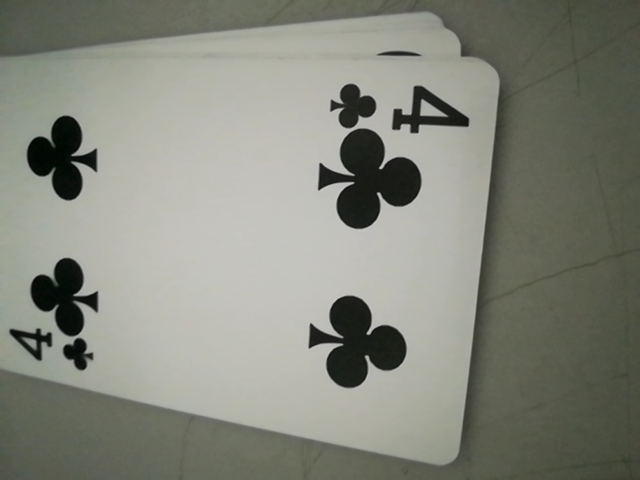mh 4: (327, 71, 464, 138), (4, 326, 101, 377)
